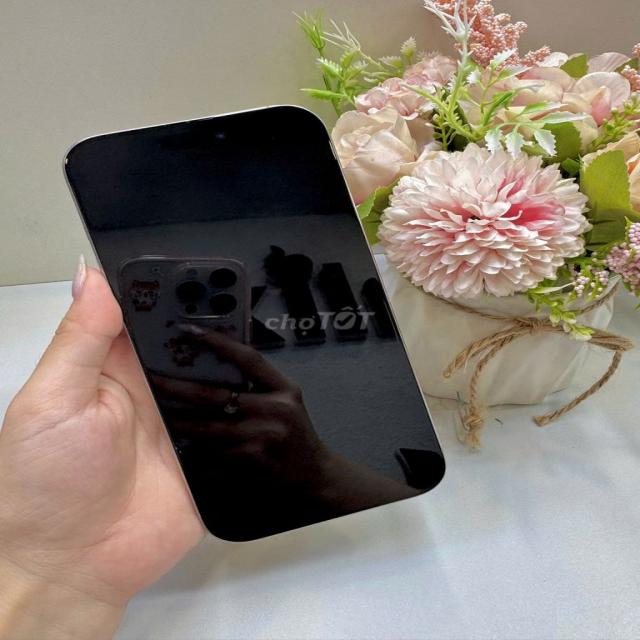gen_16: (66, 106, 443, 541)
